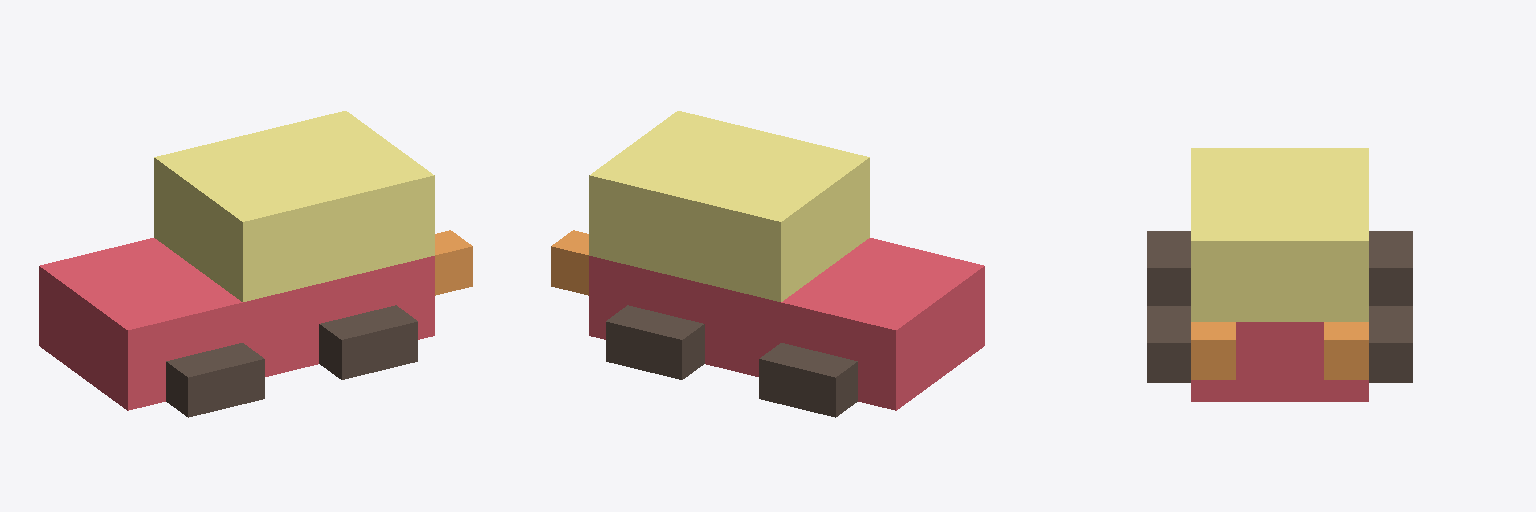
The picture shows the model from 3 angles: view 1: azimuth 30°, elevation 25°; view 2: azimuth 150°, elevation 25°; view 3: azimuth 270°, elevation 25°; orthographic projection.
Parts seen in each view (by area): view 1: Model; view 2: Model; view 3: Model.
Part boxes in pixels (bbox=[...]): Model: bbox=[39, 111, 472, 417]; Model: bbox=[551, 111, 984, 417]; Model: bbox=[1147, 148, 1412, 401].
Size of the model in its own units: 18 by 8 by 12.
1 materials, 1 textured.